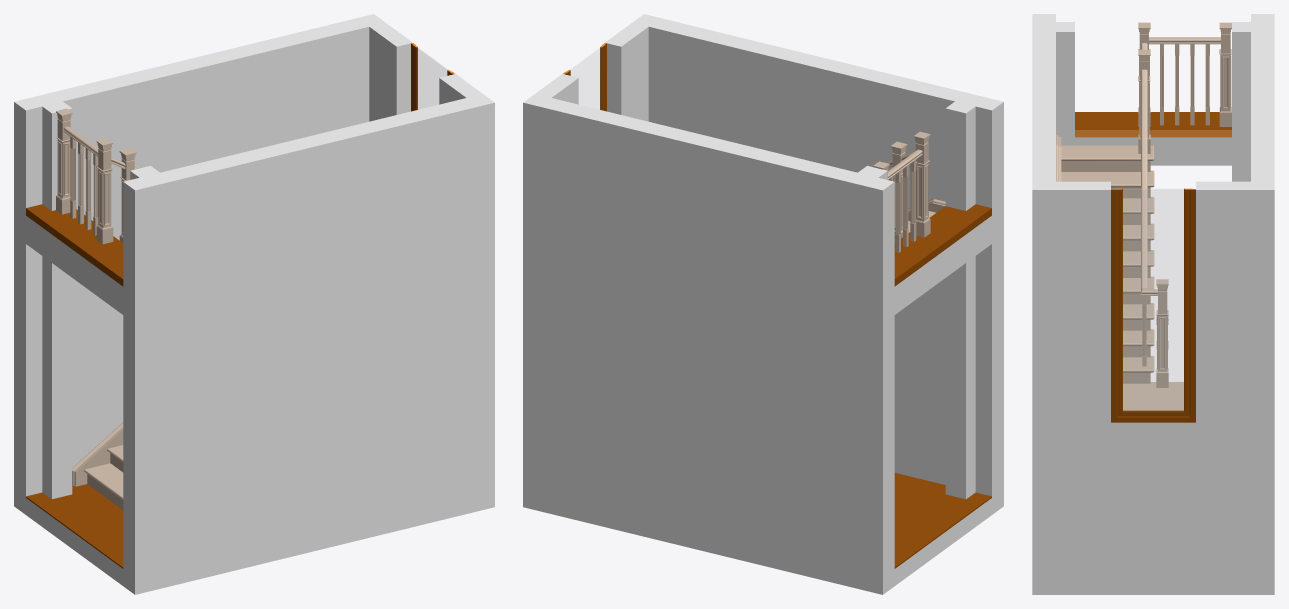
The model's file is 3D Сборка 1.obj.
3 renders of one model, left to right at view 1: azimuth 30°, elevation 25°; view 2: azimuth 150°, elevation 25°; view 3: azimuth 270°, elevation 25°, orthographic.
Bounding box in the file's own units: 4.38 × 4.71 × 2.55.
